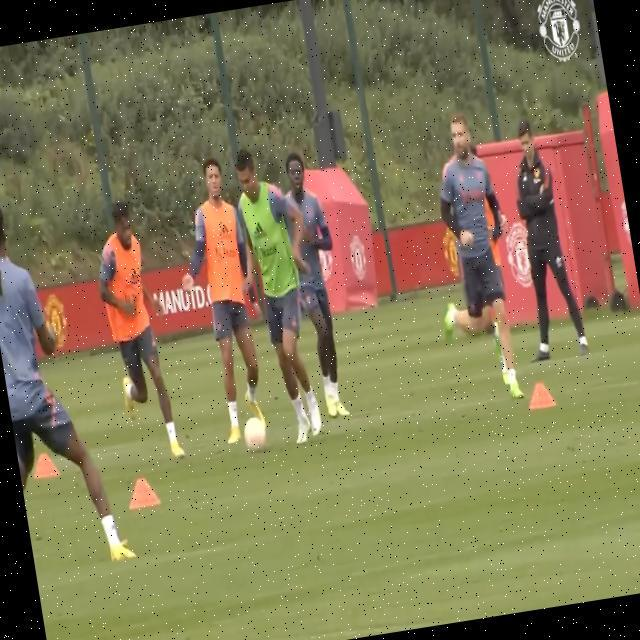Adidas: (124, 266, 142, 290), (250, 220, 268, 242), (216, 221, 234, 243)
